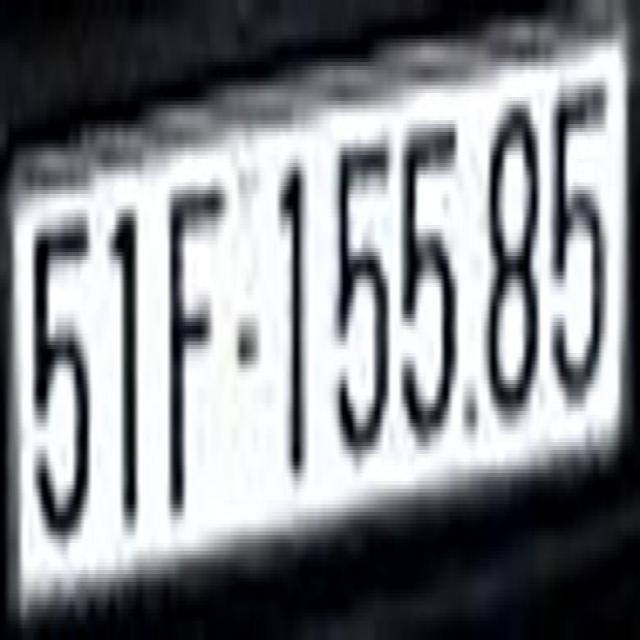1: (107, 175, 143, 528), (278, 151, 306, 485)
5: (32, 210, 94, 554), (400, 112, 460, 446), (552, 78, 608, 404), (336, 128, 390, 458)
8: (488, 105, 542, 419)
F: (164, 175, 224, 512)
